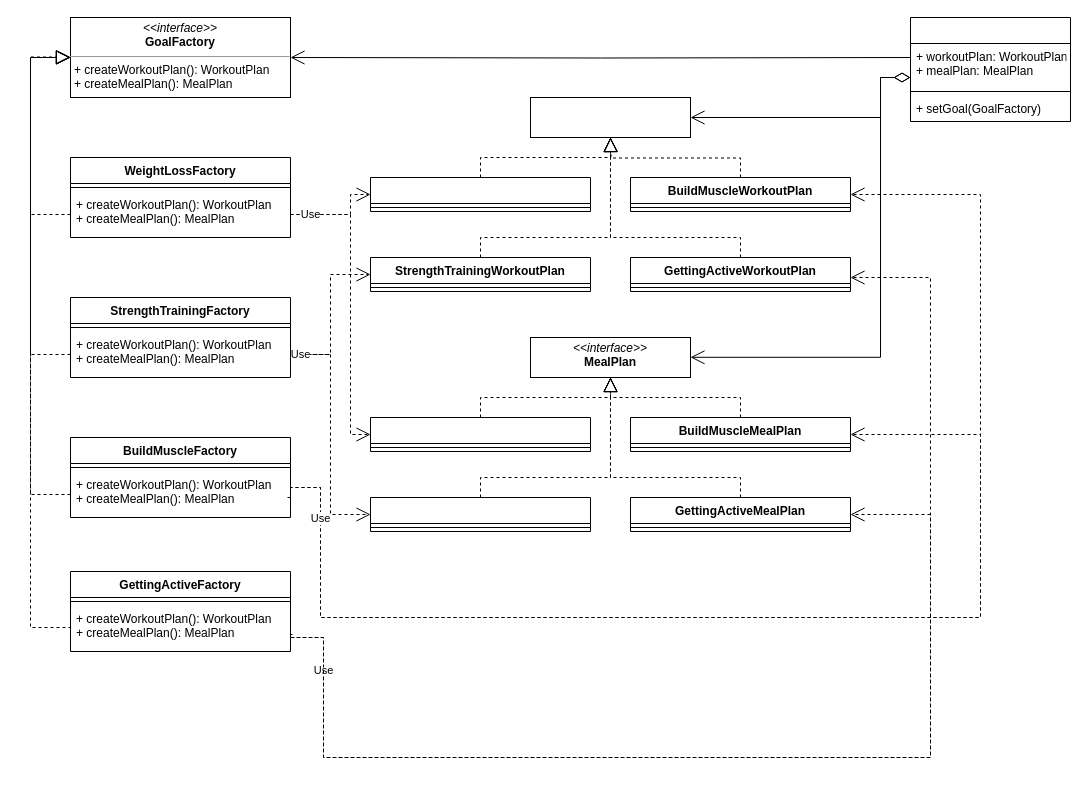
The diagram is 1088 pixels wide and 789 high, and some of its shapes have lost their labels. Here are the shapes that lost their labels. From the top down, the box of each, then its label:
(910, 16, 1070, 122): HomePage
(530, 96, 690, 138): <<interface>> WorkoutPlan
(370, 176, 590, 212): WeightLossWorkoutPlan
(370, 416, 590, 452): WeightLossMealPlan
(370, 496, 590, 532): StrengthTrainingMealPlan
